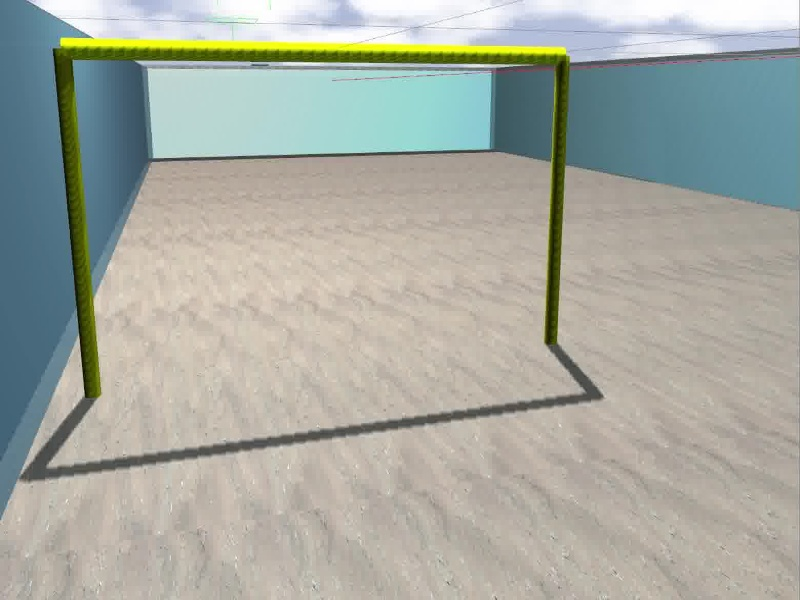gate: (50, 36, 572, 404)
